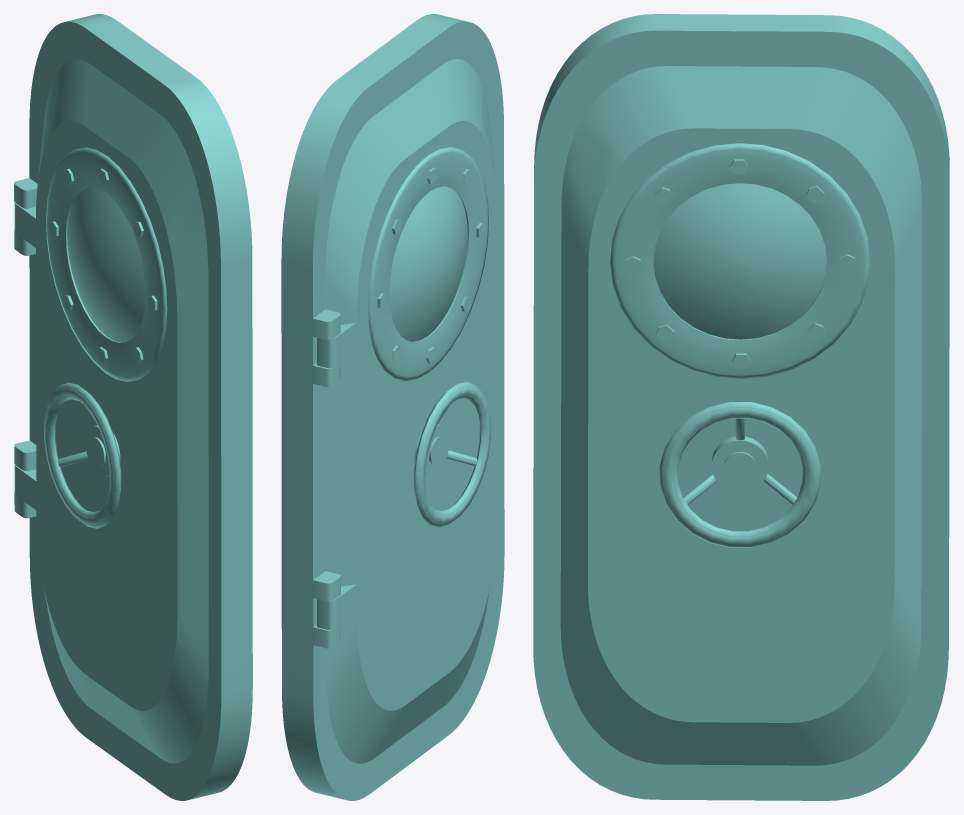
Rendered from puerta1.fbx.
3 renders of one model, left to right at view 1: azimuth 30°, elevation 25°; view 2: azimuth 150°, elevation 25°; view 3: azimuth 270°, elevation 25°, orthographic. The views are drawn at different scales.
Parts seen in each view (by area): view 1: puerta, marco; view 2: puerta, marco; view 3: puerta, marco.
Part boxes in pixels (x1,y1,x2,y2): puerta: (14,59,208,763); marco: (14,14,252,800); puerta: (317,59,497,763); marco: (281,14,504,800); puerta: (560,66,922,765); marco: (533,14,949,800).
Size of the model in its own units: 36.31 by 197 by 96.44.
